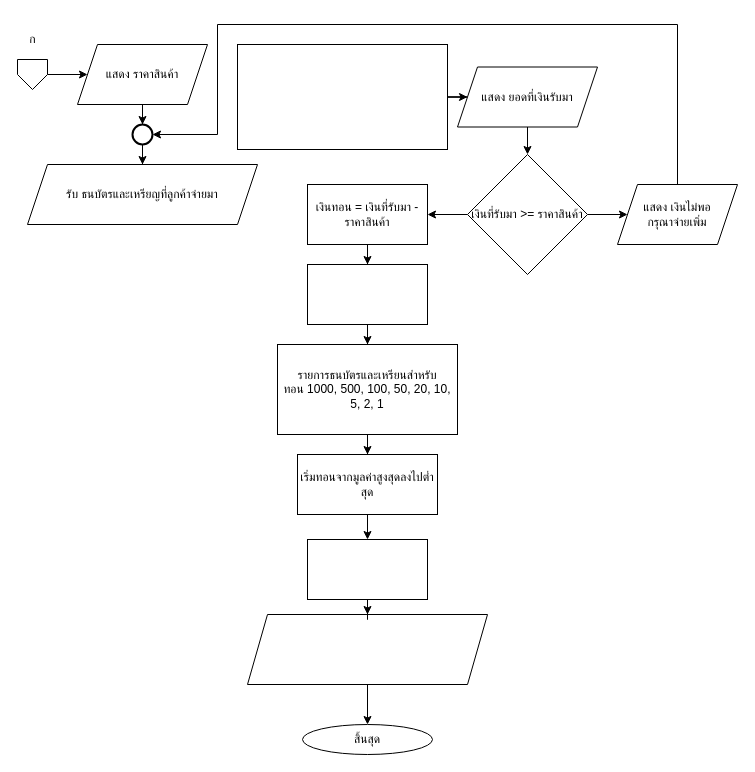
Some shapes in this 755 by 772 pixel diagram are drawn without their labels. Each missing label, with the box of its shape:
ลดจำนวนเงินทอนตามยอดที่ทอนไปแล้ว: (306, 538, 428, 600)
เงินที่รับมา = (นำแบงค์กับเหรียญมาคูณจำนวน แล้วนำมาบวกกัน): (236, 44, 448, 150)
แสดงสรุปยอดเหรียน/แบงค์ที่ทอนไปแล้ว: (246, 614, 488, 684)
แสดงเงินทอน: (306, 264, 428, 324)
